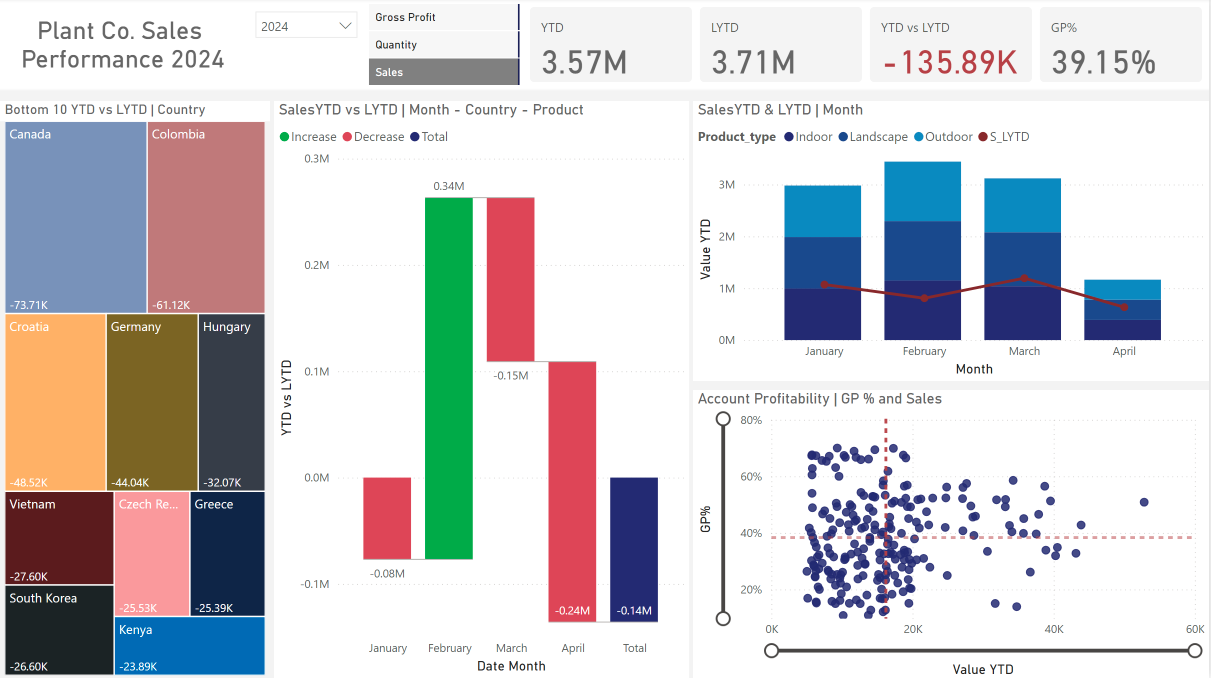

This screenshot's page, from the dashboard's own definition file:
{"tool":"powerbi","page":{"name":"Page 1","canvas":[1280,720],"ordinal":0},"visuals":[{"type":"cardVisual","fields":{"Data":["_Measures.S_YTD","_Measures.S_LYTD","_Measures.YTD vs LYTD","_Measures.GP%"]},"box":[555.9,4.2,724.2,90],"z":0},{"type":"advancedSlicerVisual","fields":{"Values":["Slc_Values.Values"]},"box":[385.4,1.1,170.5,97.4],"z":1000},{"type":"slicer","fields":{"Values":["Dim_Date.Date.Variation.Date Hierarchy.Year"]},"box":[260.5,4.2,128.1,91.1],"z":2000},{"type":"treemap","title":"Bottom 10 YTD vs LYTD | Country","fields":{"Values":["_Measures.YTD vs LYTD"],"Group":["Dim_account.country"]},"box":[0,109.1,285.9,613.1],"z":3000},{"type":"waterfallChart","fields":{"Y":["_Measures.YTD vs LYTD"],"Category":["Dim_Date.Date.Variation.Date Hierarchy.Month","Dim_account.country","Dim_product.Product_type","Dim_product.Product_name_id"]},"box":[290.1,109.1,439.4,610.9],"z":4000},{"type":"lineStackedColumnComboChart","fields":{"Y":["_Measures.S_YTD"],"Category":["Dim_Date.Date.Variation.Date Hierarchy.Month"],"Series":["Dim_product.Product_type"],"Y2":["_Measures.S_LYTD"]},"box":[733.8,109.1,546.4,296.5],"z":5000},{"type":"scatterChart","fields":{"Y":["_Measures.GP%"],"X":["_Measures.S_YTD"],"Category":["Dim_account.Account"]},"box":[733.8,415.1,546.4,308.1],"z":6000},{"type":"card","fields":{"Values":["_Measures._Report Title"]},"box":[0,1.1,260.5,93.2],"z":6001}]}

Visuals, with their boxes in screenshot pixels (x1, y1, x2, y2), scaled from the page's 1280x720 canvas onto the 1211x678 screenshot:
cardVisual - _Measures.S_YTD x _Measures.S_LYTD: x1=526 y1=4 x2=1210 y2=89
advancedSlicerVisual - Slc_Values.Values: x1=365 y1=1 x2=526 y2=93
slicer - Dim_Date.Date.Variation.Date Hierarchy.Year: x1=246 y1=4 x2=368 y2=90
"Bottom 10 YTD vs LYTD | Country" treemap: x1=0 y1=103 x2=270 y2=677
waterfallChart - _Measures.YTD vs LYTD x Dim_Date.Date.Variation.Date Hierarchy.Month: x1=274 y1=103 x2=690 y2=677
lineStackedColumnComboChart - _Measures.S_YTD x Dim_Date.Date.Variation.Date Hierarchy.Month: x1=694 y1=103 x2=1210 y2=382
scatterChart - _Measures.GP% x _Measures.S_YTD: x1=694 y1=391 x2=1210 y2=677
card - _Measures._Report Title: x1=0 y1=1 x2=246 y2=89
